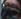with_mask: (2, 2, 21, 19)
